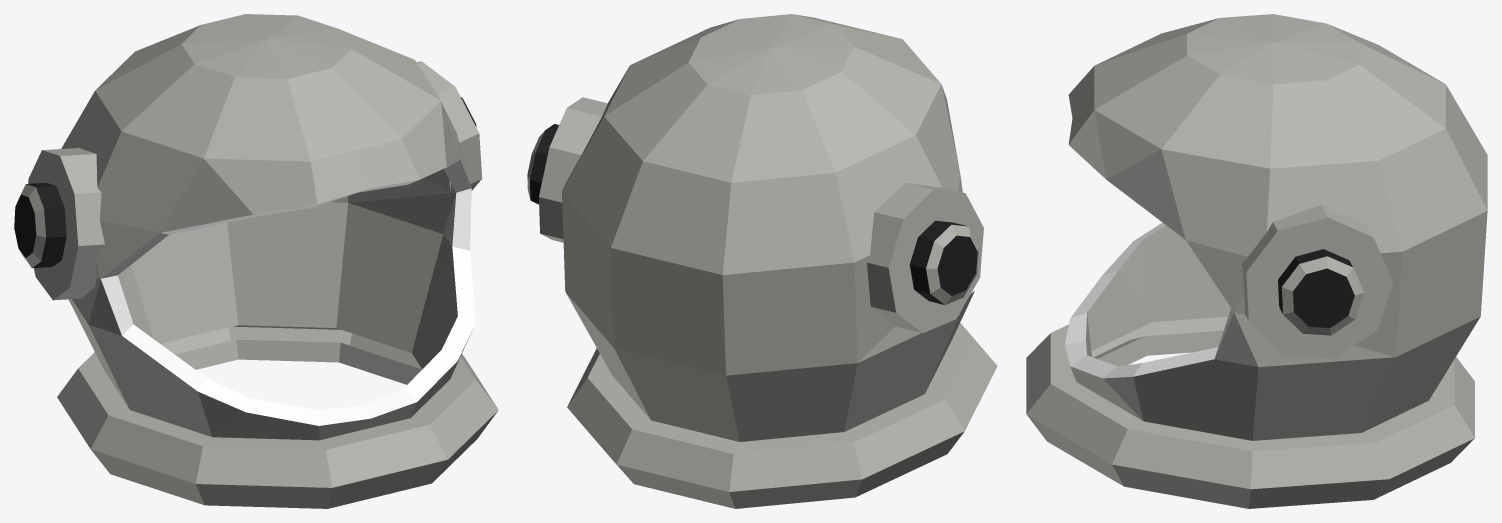
File: Astronaut.fbx
3 views of the same model, side by side, from view 1: azimuth 30°, elevation 25°; view 2: azimuth 150°, elevation 25°; view 3: azimuth 270°, elevation 25° (orthographic). The views are drawn at different scales.
Visible parts, largest first — view 1: Cylinder.004; view 2: Cylinder.004; view 3: Cylinder.004.
Boxes of the visible parts, x1,y1,x2,y2 form: Cylinder.004: (14, 14, 498, 508); Cylinder.004: (527, 14, 997, 508); Cylinder.004: (1026, 14, 1487, 508).
Bounding box in the file's own units: 182 × 155 × 164.
